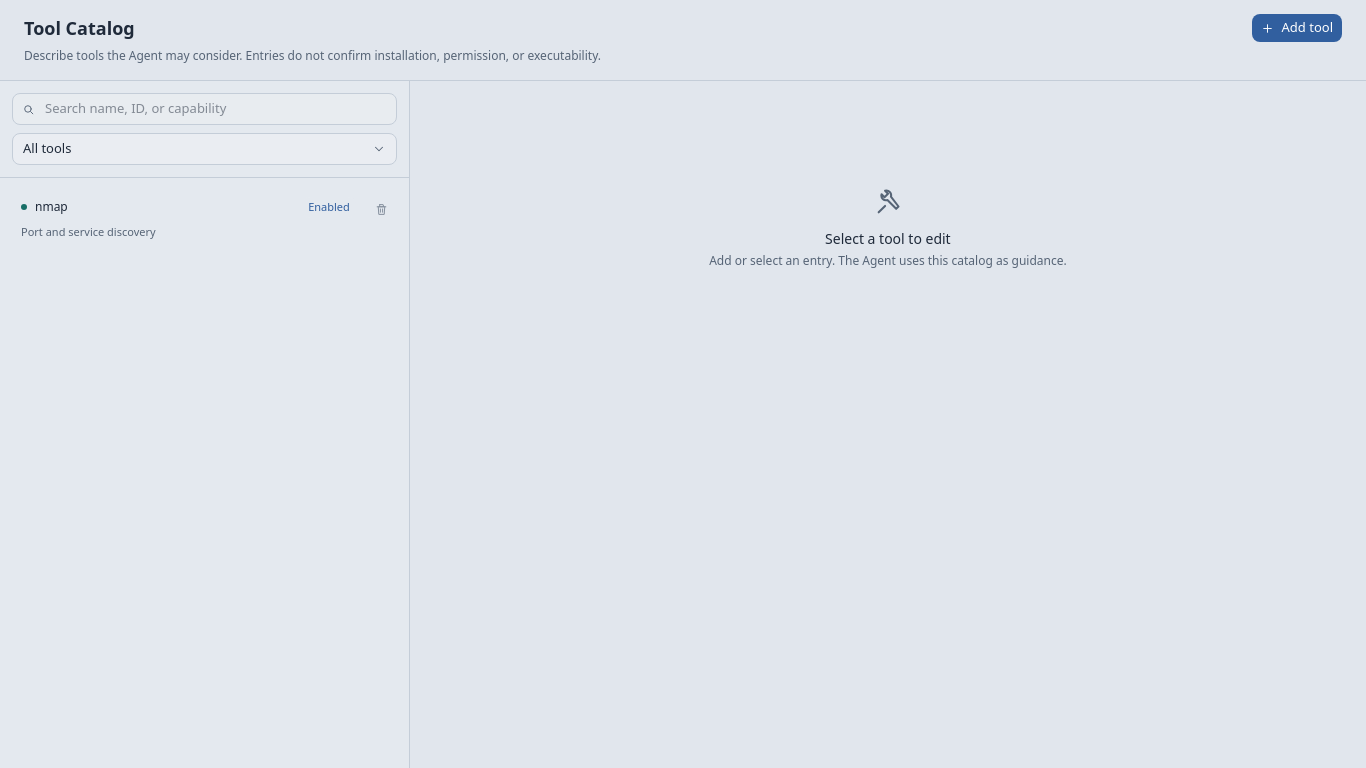
it: ToolCatalogSettings › creates a tool and reports save errors without discarding the draft
Expected: the text "Port and service discovery" is shown, [21,224,156,238]
Click the button "Add tool" at [1297, 28], box [1252,14,1342,42]
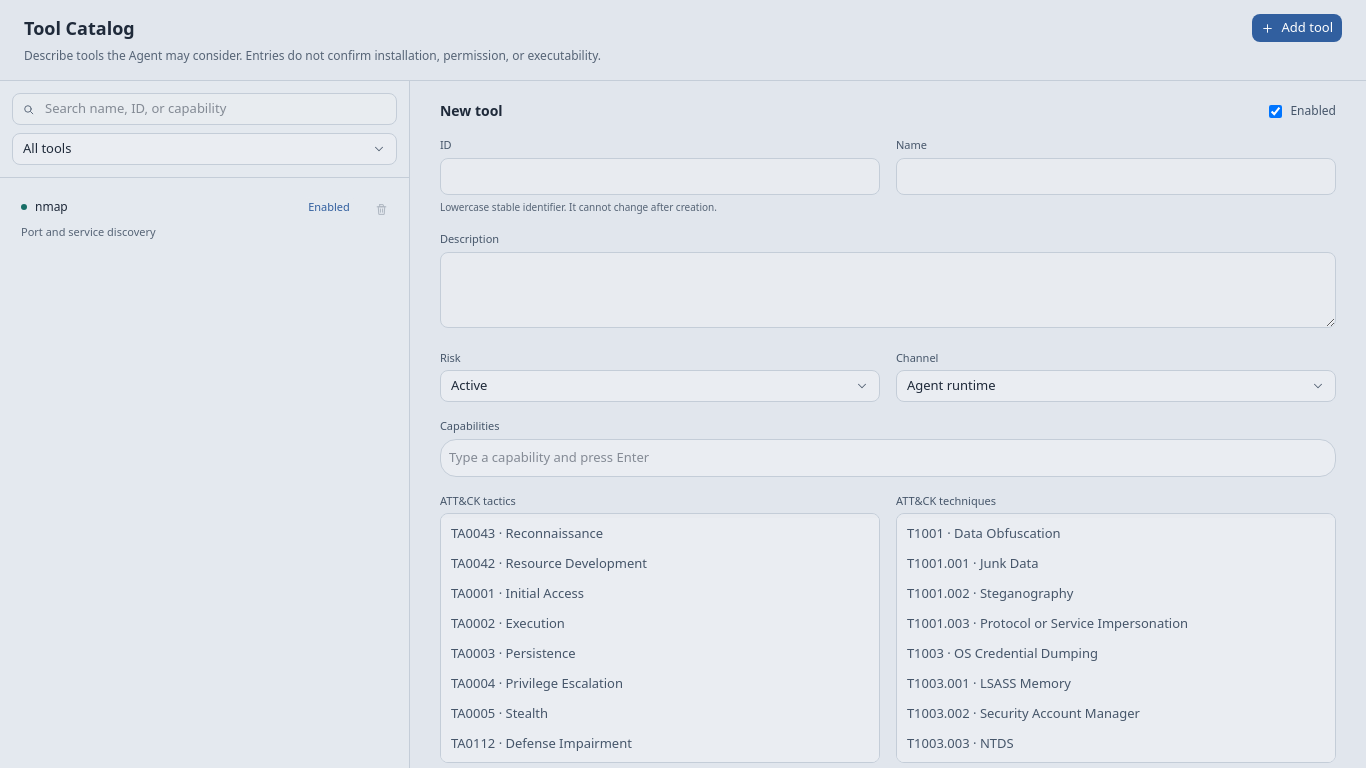
Type "custom-tool" into the field named "ID" at [660, 176], box [440,158,880,195]
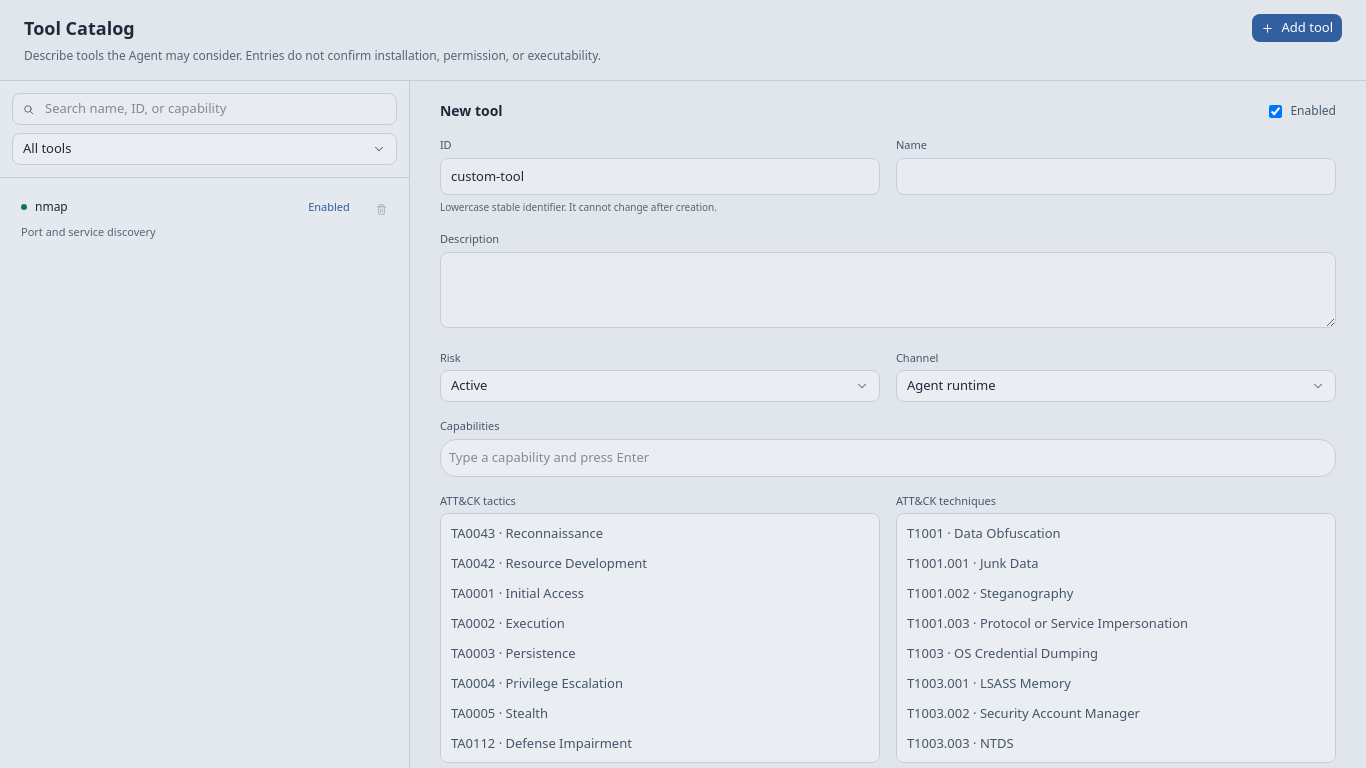
Type "Custom" into the field named "Name" at [1116, 176], box [896,158,1336,195]
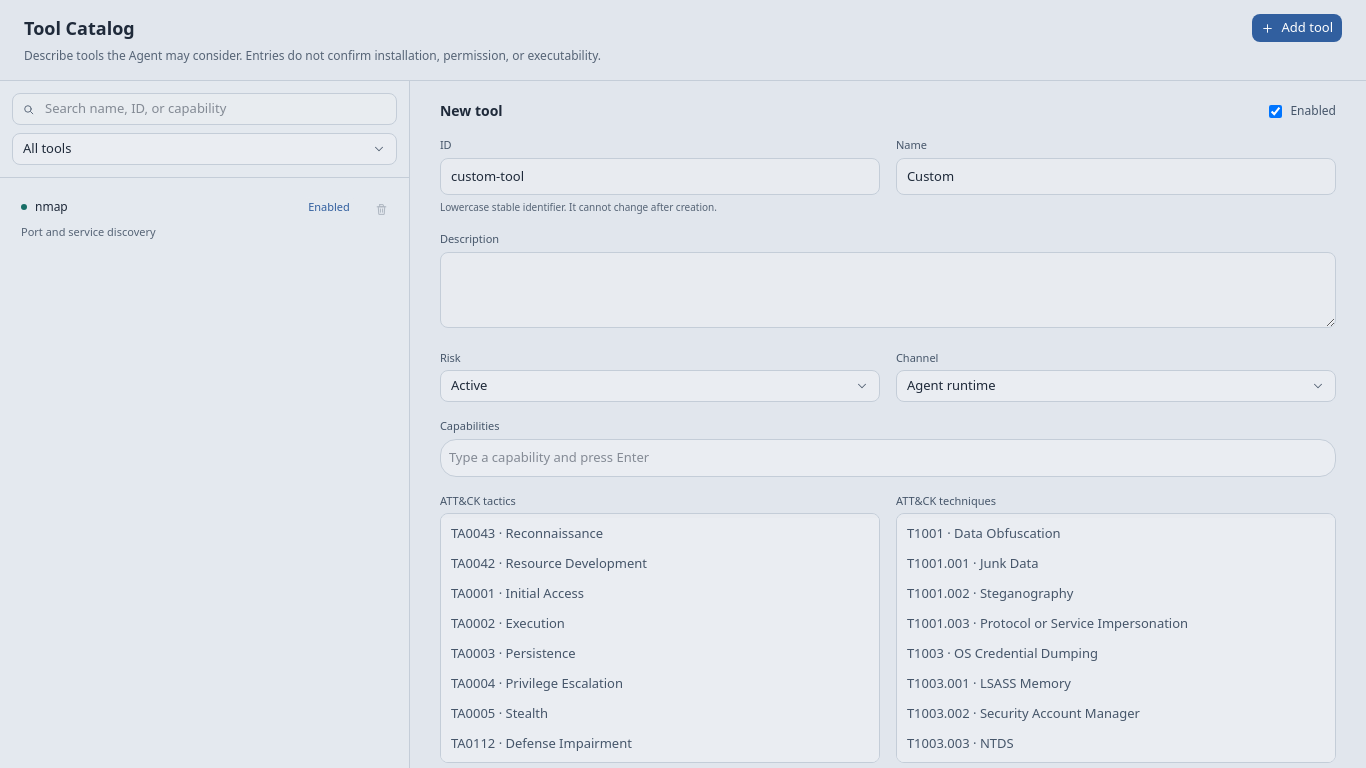
Type "Custom prompt entry" into the text box named "Description" at [888, 290], box [440,252,1336,328]
(page scrolled)
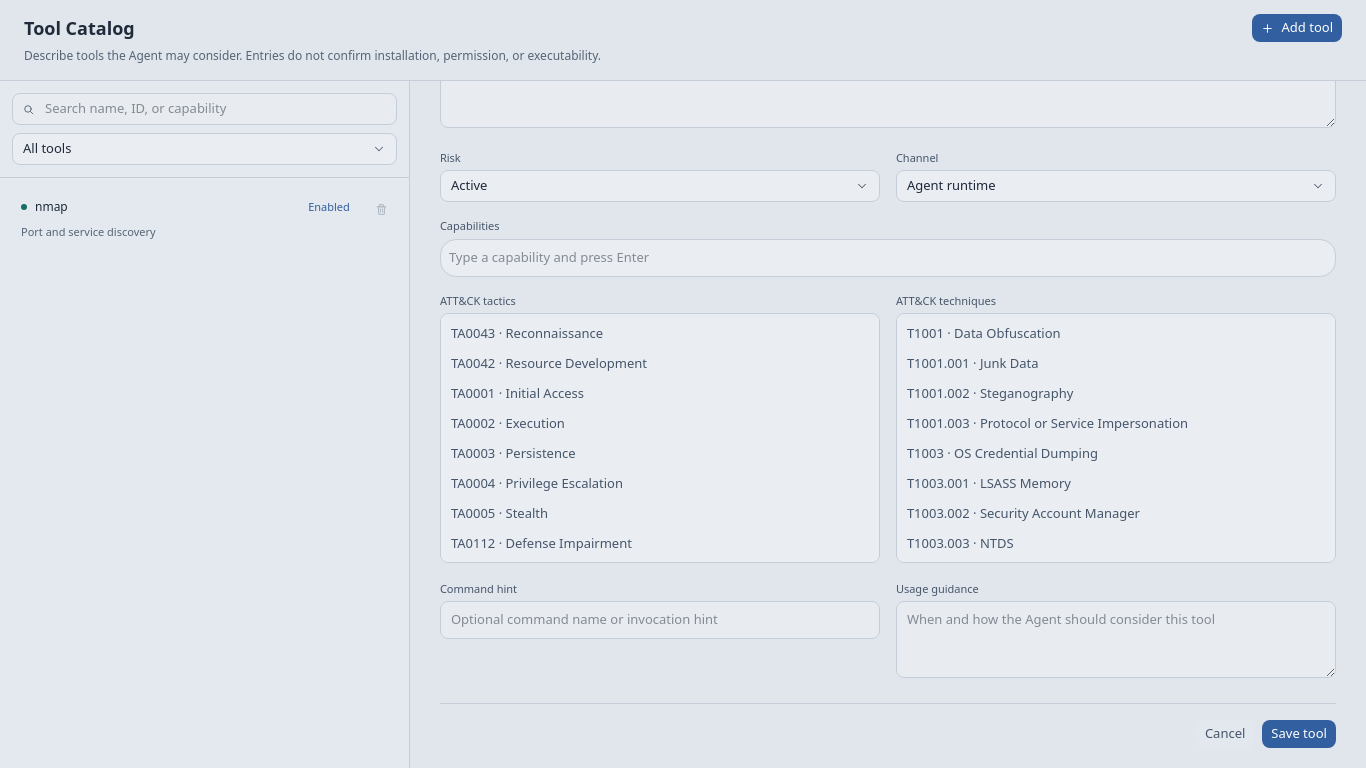
Click the button "Save tool" at [1299, 734], box [1262,720,1336,748]
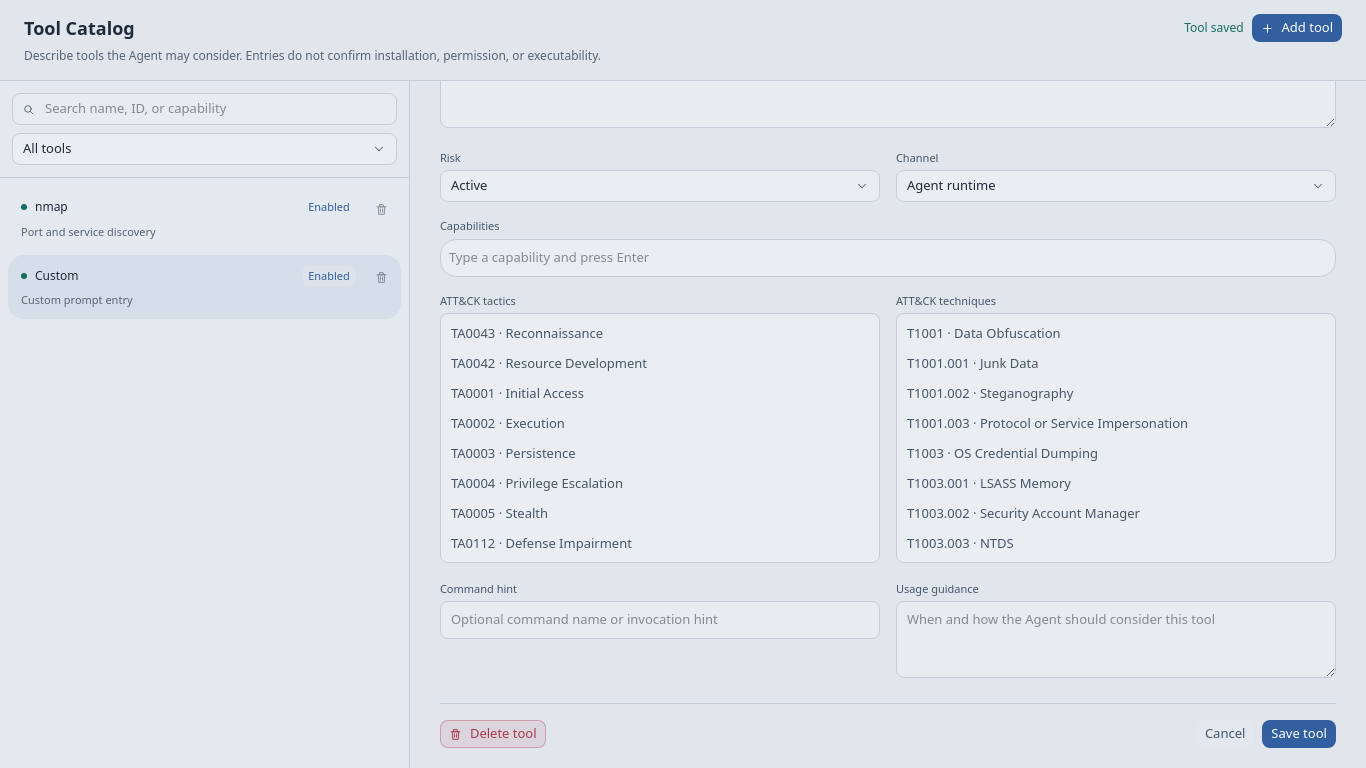
Click the button "Save tool" at [1299, 734], box [1262,720,1336,748]
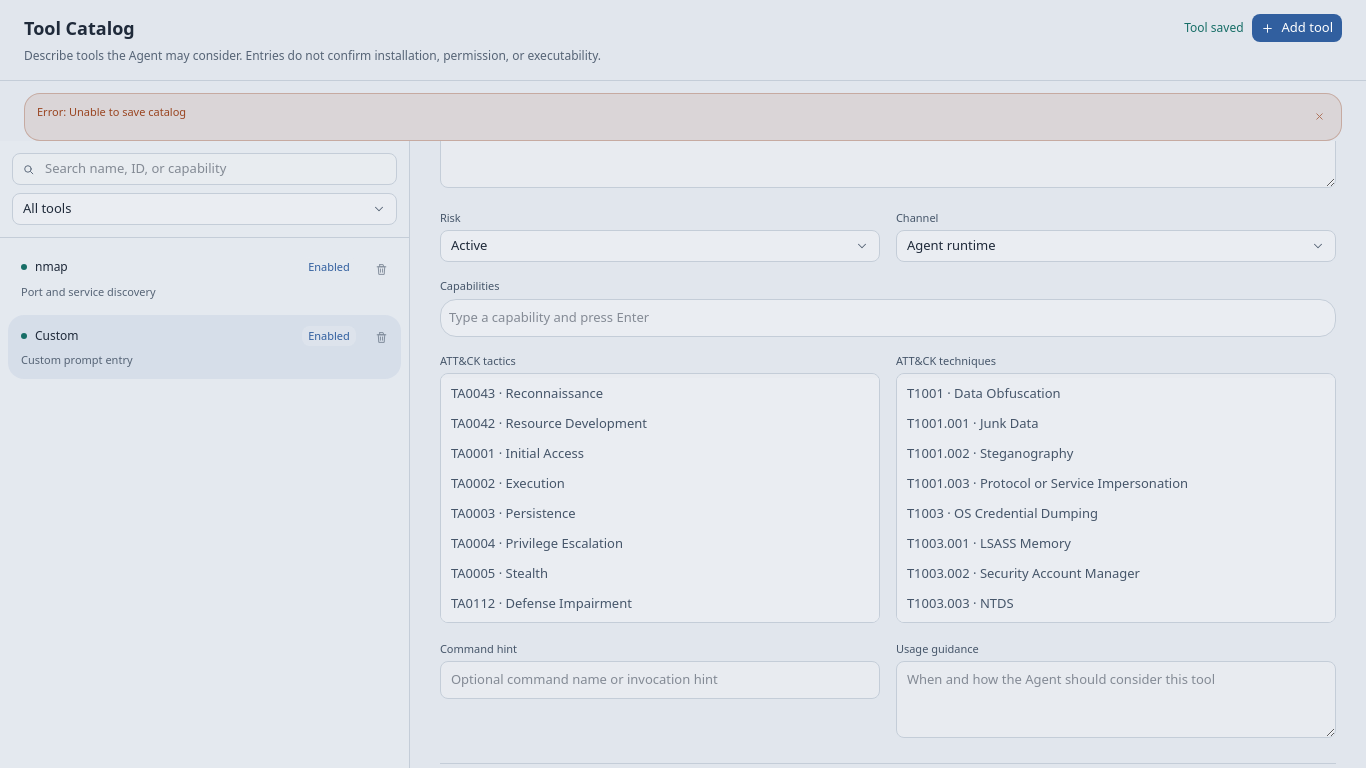
Result: the text "Error: Unable to save catalog" is shown at [37,104,186,119]
